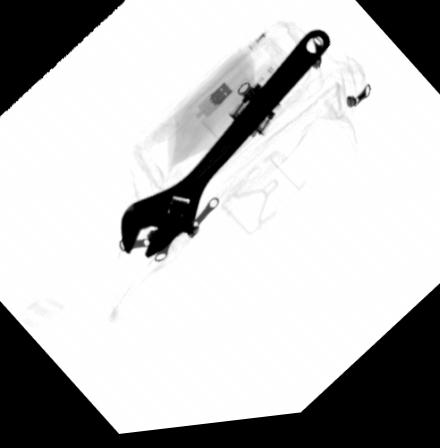Wrench: (119, 36, 331, 262)
